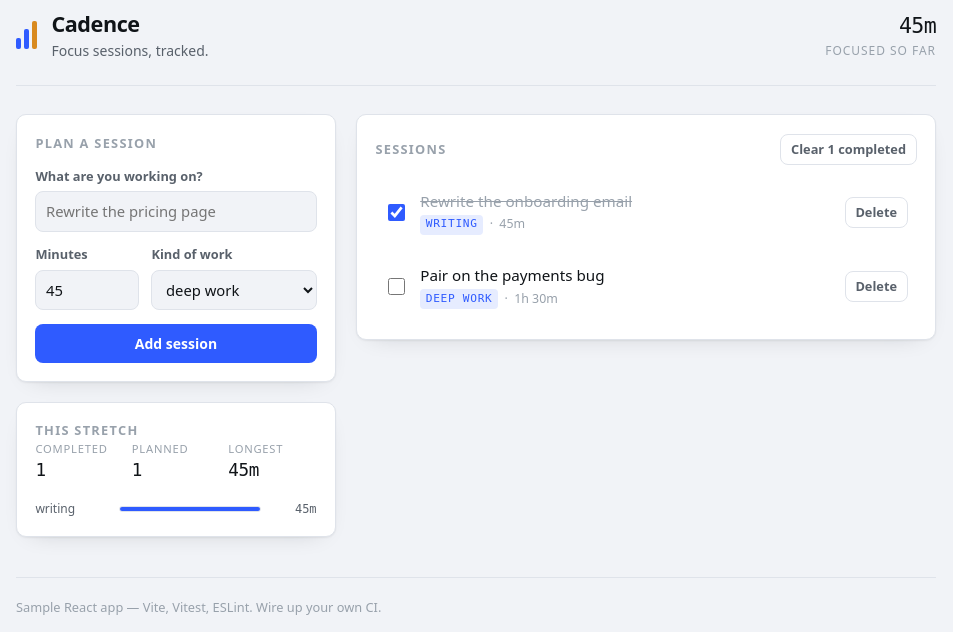
App › adds a session from the form
Type "Draft the RFC" into the field labelled "What are you working on?" at (176, 211), box top-left (35, 191), bottom-right (317, 232)
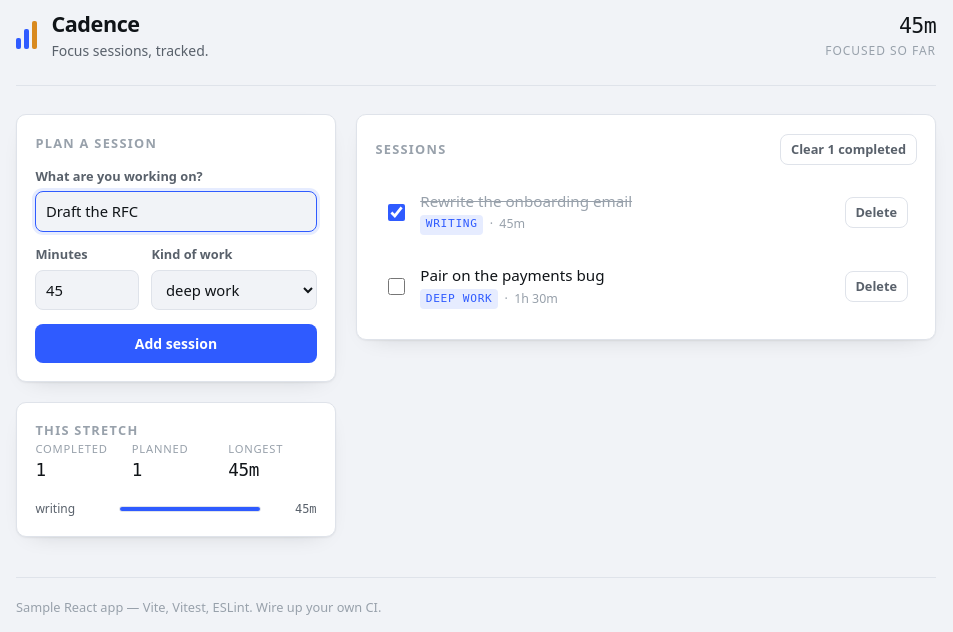
Click the button "Add session" at (176, 343), box top-left (35, 324), bottom-right (317, 363)
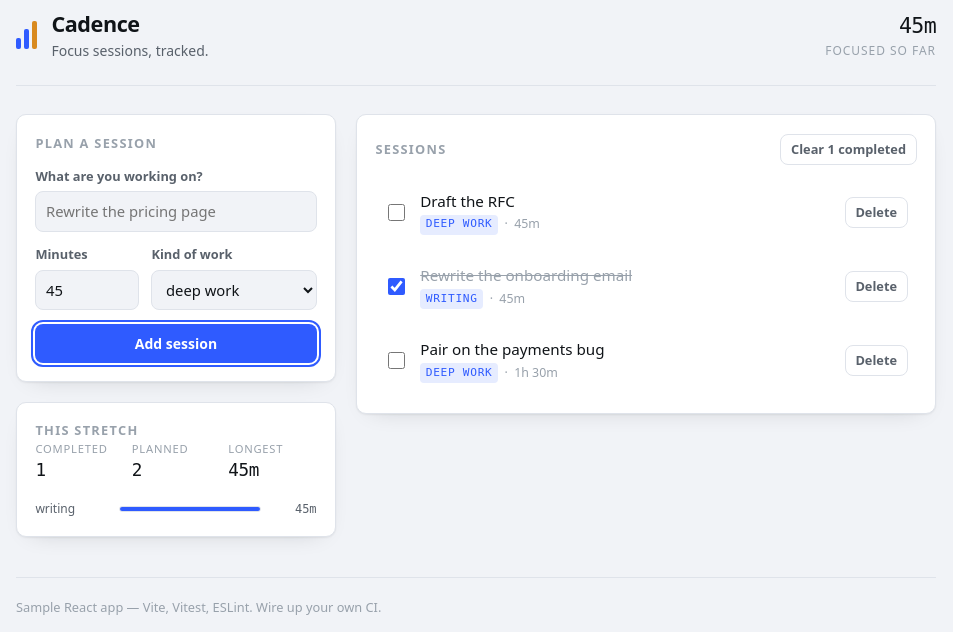
Check: the text "Draft the RFC" is shown, box top-left (420, 190), bottom-right (515, 210)
